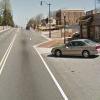Car: (46, 33, 100, 62)
